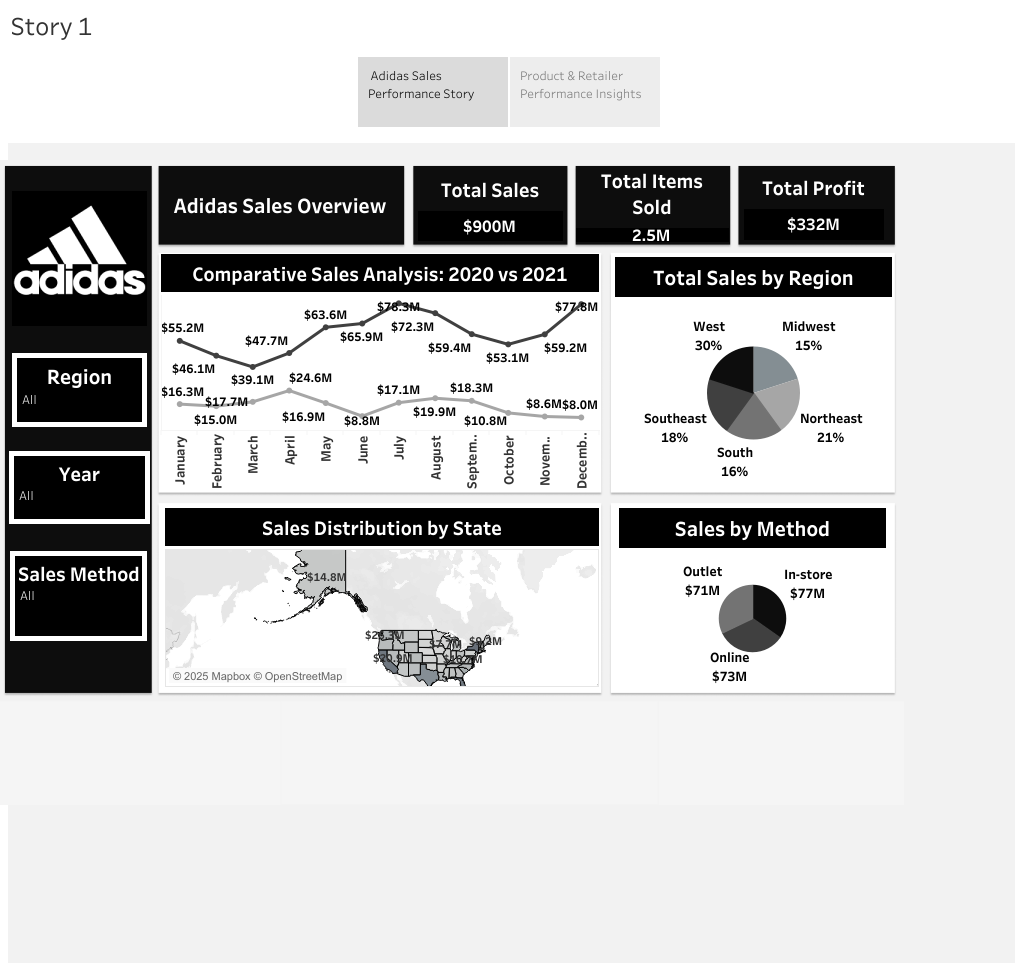

This screenshot's page, from the dashboard's own definition file:
{"tool":"tableau","page":{"name":"Dashboard 1","canvas":[1979,1183],"ordinal":0},"visuals":[{"type":"worksheet","title":"total sold","mark":"Automatic","box":[568,18,152,81]},{"type":"worksheet","title":"total profit","mark":"Automatic","box":[736,25,139,71]},{"type":"worksheet","title":"total sales","mark":"Automatic","box":[410,27,144,70]},{"type":"text","box":[160,30,224,64]},{"type":"image","param":"Image/تنزيل (2).png","box":[4,37,135,157]},{"type":"worksheet","title":"2020 vs 2021","mark":"Automatic","rows":["Total Sales"],"cols":["Invoice Date"],"box":[153,111,438,236]},{"type":"worksheet","title":"total sales by region","mark":"Pie","box":[607,114,277,229]},{"type":"filter","title":"Sales by Method","param":"[federated.1i5iono1qp2k8r14g33wg1e7grcs].[none:Region:nk]","box":[4,210,135,74]},{"type":"filter","title":"Sales by Method","param":"[federated.1i5iono1qp2k8r14g33wg1e7grcs].[yr:Invoice Date:ok]","box":[1,308,141,73]},{"type":"worksheet","title":"Sales Distribution by State","mark":"Multipolygon","box":[157,365,434,179]},{"type":"worksheet","title":"Sales by Method","mark":"Pie","box":[611,365,267,178]},{"type":"filter","title":"Sales by Method","param":"[federated.1i5iono1qp2k8r14g33wg1e7grcs].[none:Sales Method:nk]","box":[2,408,137,90]}]}

Visuals, with their boxes on the page's 1979x1183 design canvas (x1, y1, x2, y2). These are canvas units, not pixel positions in the 1015x963 screenshot, which may show the page scaled, cropped or inside an application window:
"total sold" worksheet: 568, 18, 720, 99
"total profit" worksheet: 736, 25, 875, 96
"total sales" worksheet: 410, 27, 554, 97
text: 160, 30, 384, 94
image: 4, 37, 139, 194
"2020 vs 2021" worksheet: 153, 111, 591, 347
"total sales by region" worksheet (Pie marks): 607, 114, 884, 343
"Sales by Method" filter: 4, 210, 139, 284
"Sales by Method" filter: 1, 308, 142, 381
"Sales Distribution by State" worksheet (Multipolygon marks): 157, 365, 591, 544
"Sales by Method" worksheet (Pie marks): 611, 365, 878, 543
"Sales by Method" filter: 2, 408, 139, 498
